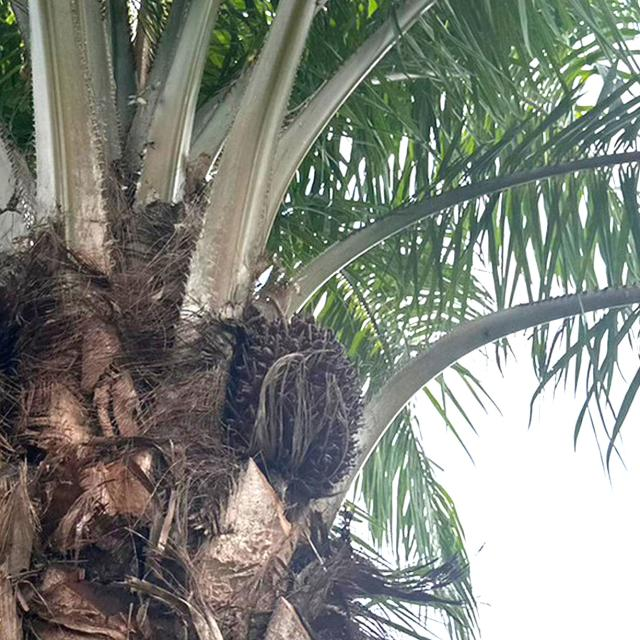ripe: (207, 290, 380, 505)
